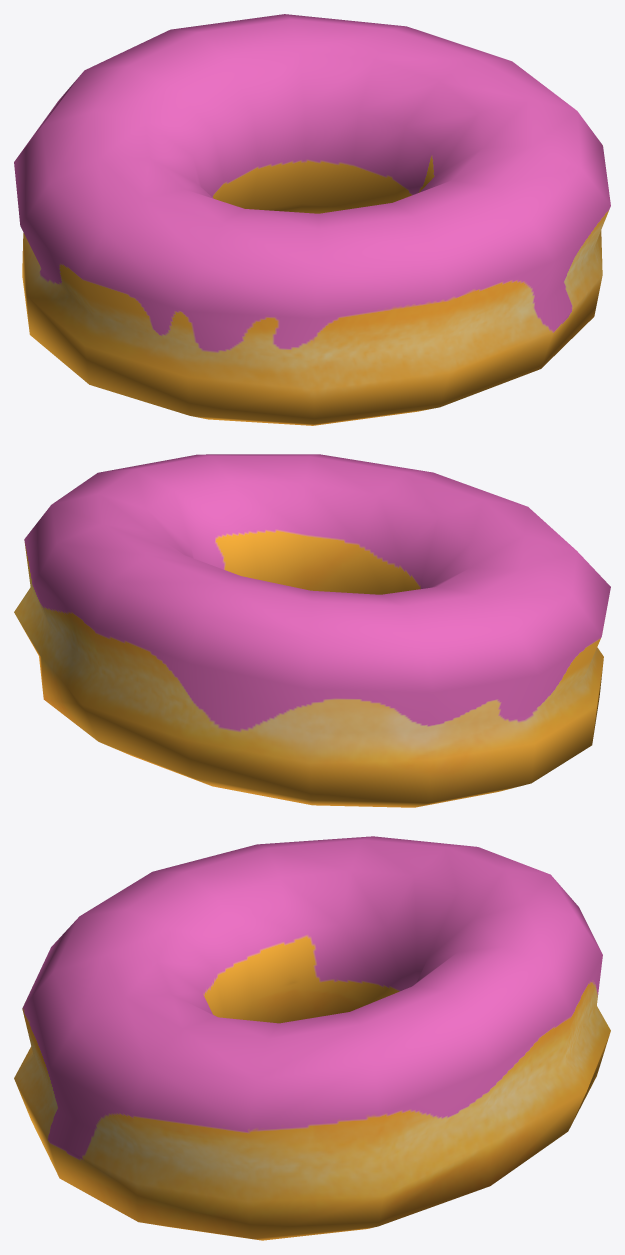
Rendered from donutpink.glb.
3 renders of one model, top to bottom at view 1: azimuth 30°, elevation 25°; view 2: azimuth 150°, elevation 25°; view 3: azimuth 270°, elevation 25°, orthographic. The views are drawn at different scales.
Parts seen in each view (by area): view 1: donutpink; view 2: donutpink; view 3: donutpink.
Part boxes in pixels (x1,y1,x2,y2): donutpink: (14,14,610,425); donutpink: (14,454,610,807); donutpink: (14,836,610,1240).
Size of the model in its own units: 0.1584 by 0.0654 by 0.15.
1 material, 1 textured.
